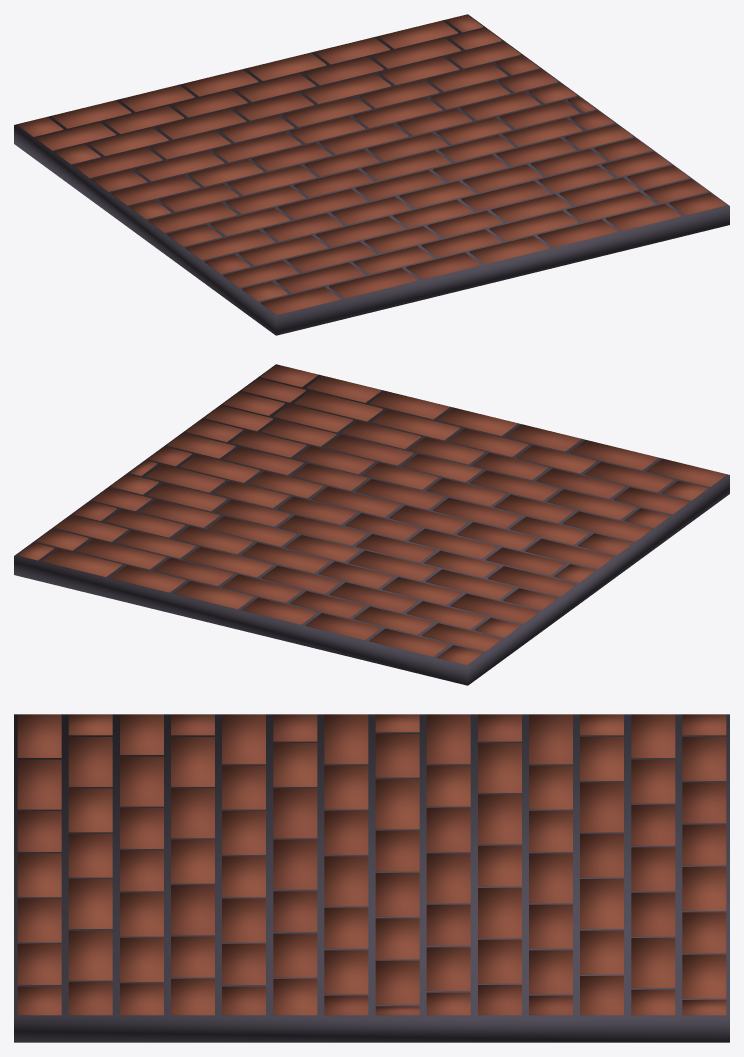
File: alley_floor_2m.glb
The picture shows the model from 3 angles, top to bottom: view 1: azimuth 30°, elevation 25°; view 2: azimuth 150°, elevation 25°; view 3: azimuth 270°, elevation 25°; orthographic projection. The views are drawn at different scales.
Visible parts, largest first — view 1: alley_floor_2m; view 2: alley_floor_2m; view 3: alley_floor_2m.
Boxes of the visible parts, box(x1,y1,x2,y2) form: alley_floor_2m: box(14, 14, 729, 335); alley_floor_2m: box(14, 364, 729, 685); alley_floor_2m: box(14, 714, 729, 1042).
Bounding box in the file's own units: 2 × 0.085 × 2.
